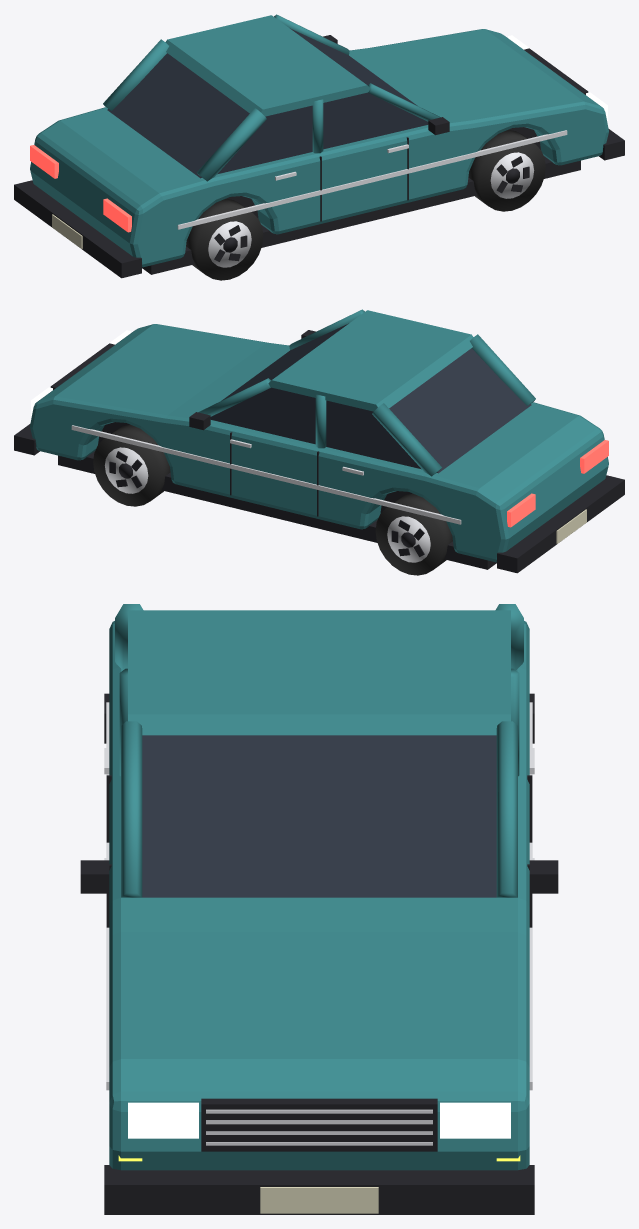
File: car_1.glb
3 views of the same model, one above another, from view 1: azimuth 30°, elevation 25°; view 2: azimuth 150°, elevation 25°; view 3: azimuth 270°, elevation 25° (orthographic). The views are drawn at different scales.
Parts seen in each view (by area): view 1: car_1; view 2: car_1; view 3: car_1.
Part boxes in pixels (box(x1,y1,x2,y2)): car_1: box(14, 14, 624, 280); car_1: box(14, 309, 624, 575); car_1: box(80, 604, 558, 1214).
Size of the model in its own units: 4.94 by 1.49 by 2.02.
